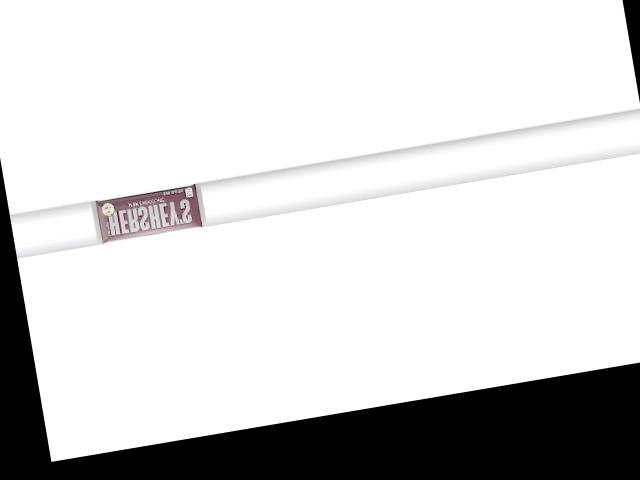chocolate: (91, 177, 207, 242)
